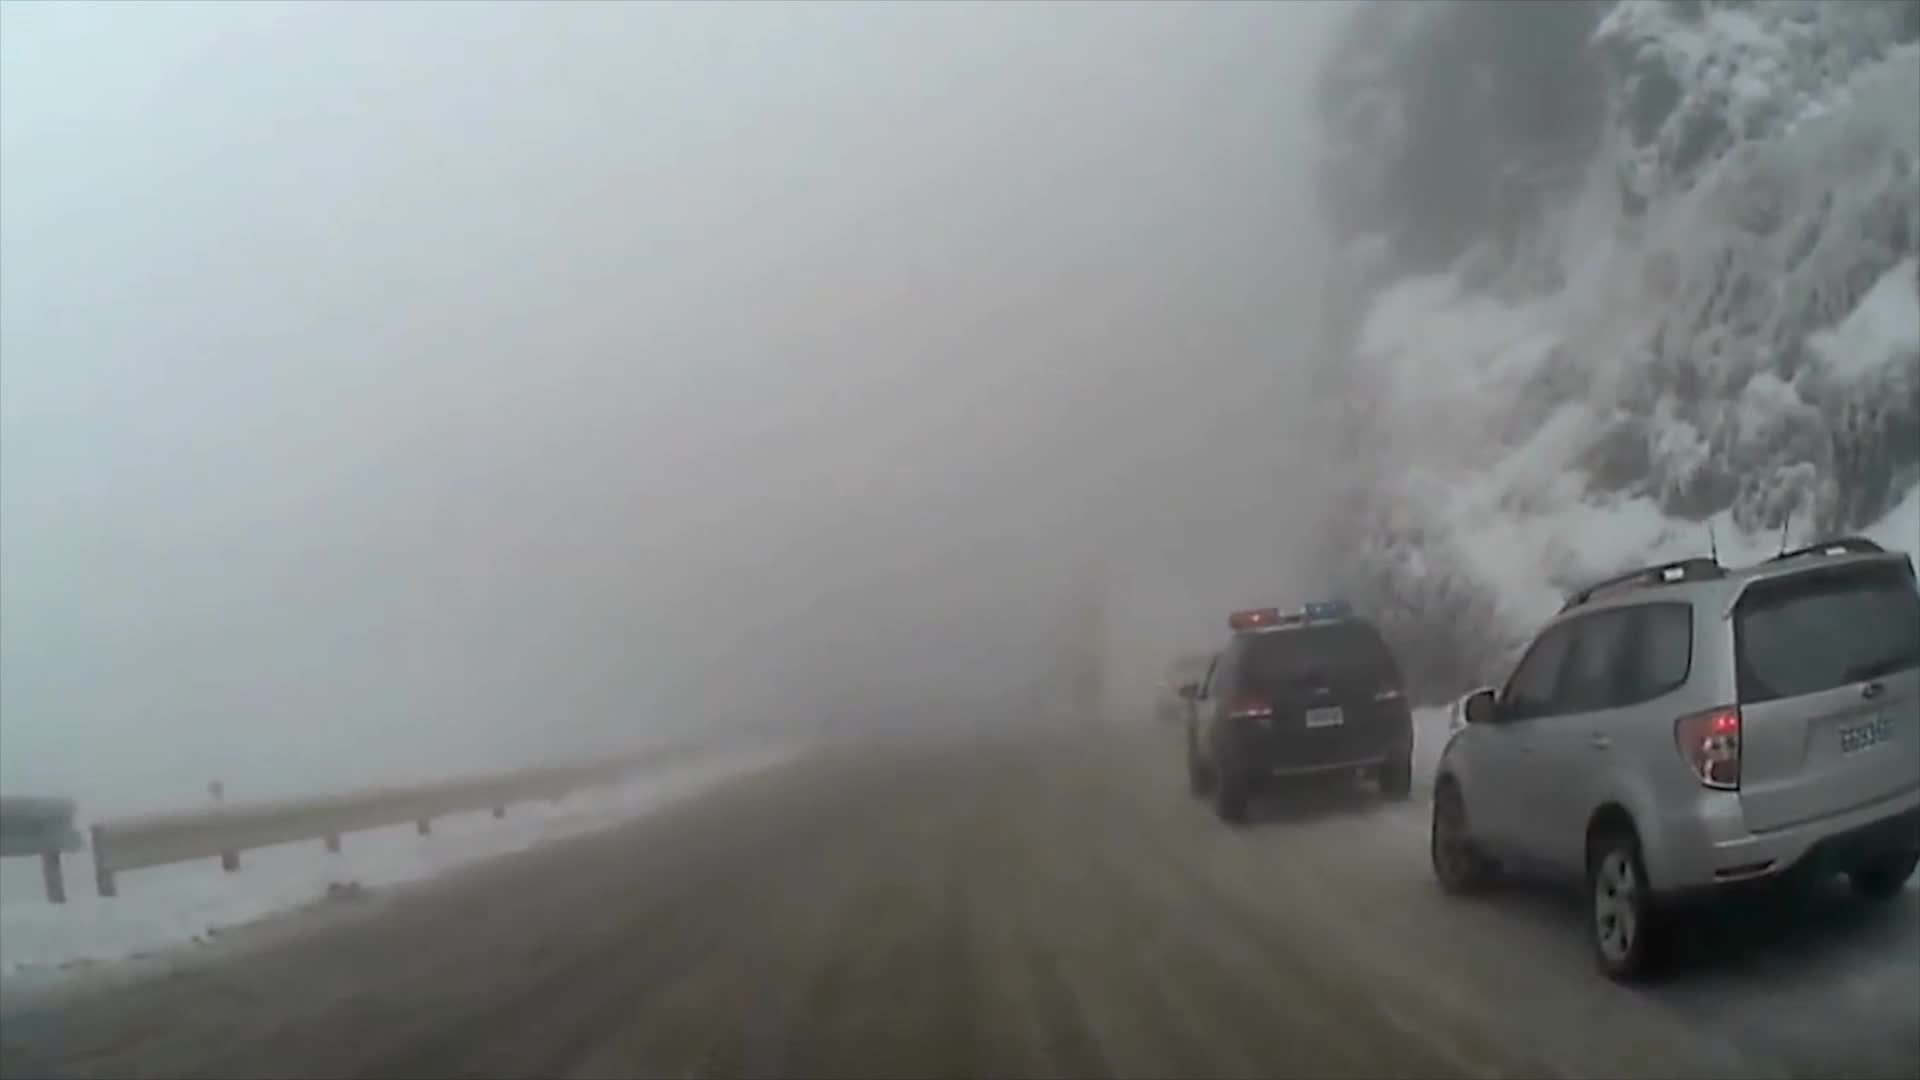vehicle: (1428, 533, 1920, 981), (1175, 591, 1412, 820)
